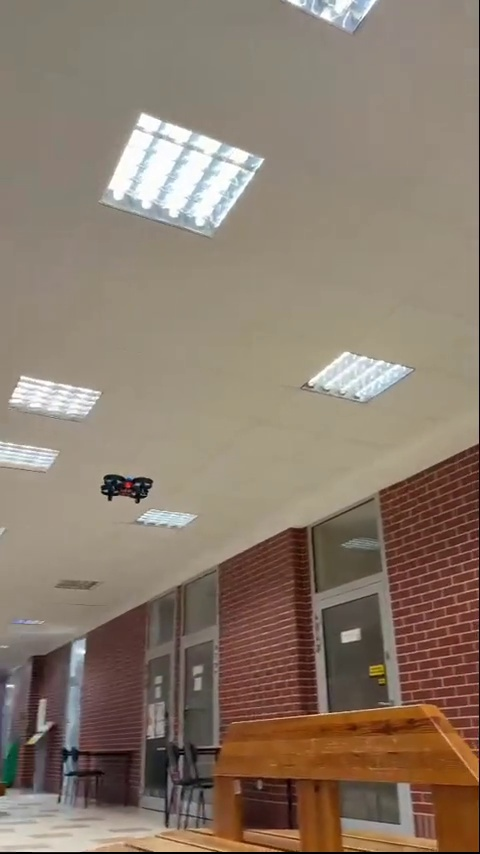drone: (97, 468, 155, 497)
